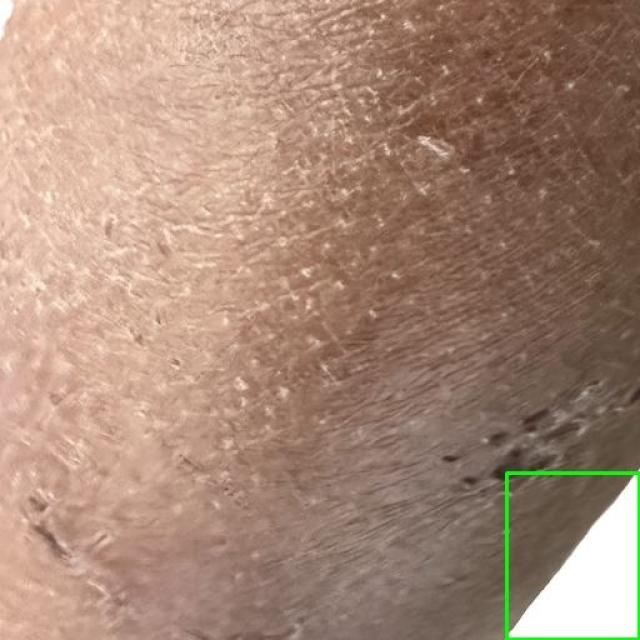Atopic Dermatitis: (506, 472, 639, 639)
